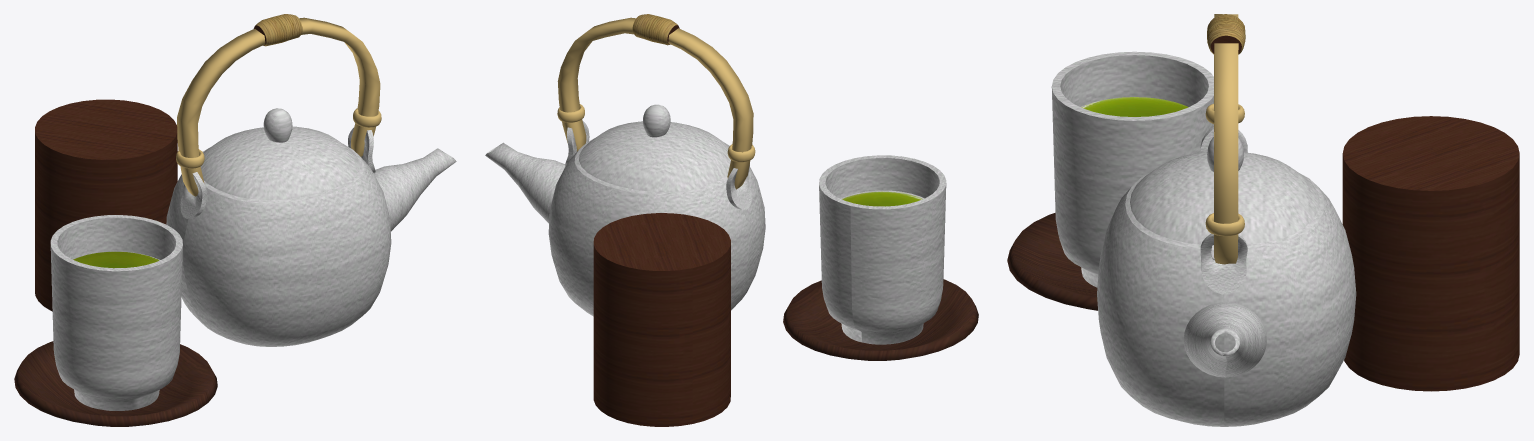
The model's file is TeaSet1.a.fbx.
3 renders of one model, left to right at view 1: azimuth 30°, elevation 25°; view 2: azimuth 150°, elevation 25°; view 3: azimuth 270°, elevation 25°, orthographic. The views are drawn at different scales.
Visible parts, largest first — view 1: Group 0; view 2: Group 0; view 3: Group 0.
Part boxes in pixels (bbox=[...]): Group 0: bbox=[14, 14, 456, 426]; Group 0: bbox=[485, 14, 978, 426]; Group 0: bbox=[1007, 14, 1519, 426].
Size of the model in its own units: 31.88 by 20.72 by 24.8.
Materials: 1 (1 with a texture image).
